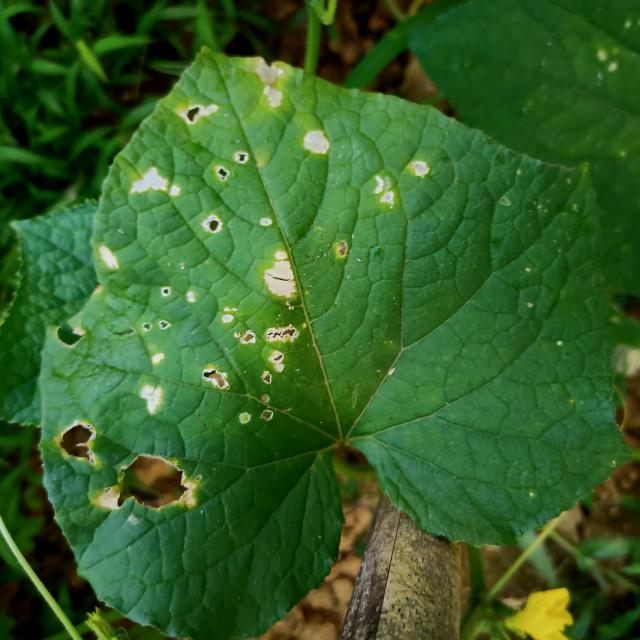disease_cucumber: (201, 305, 302, 428), (98, 452, 203, 517), (370, 158, 432, 208), (54, 421, 99, 466), (263, 247, 297, 303), (127, 166, 183, 200), (254, 62, 289, 110), (178, 97, 221, 127), (215, 148, 249, 183), (299, 127, 334, 159), (138, 380, 166, 418), (97, 240, 123, 273), (202, 215, 223, 234)
